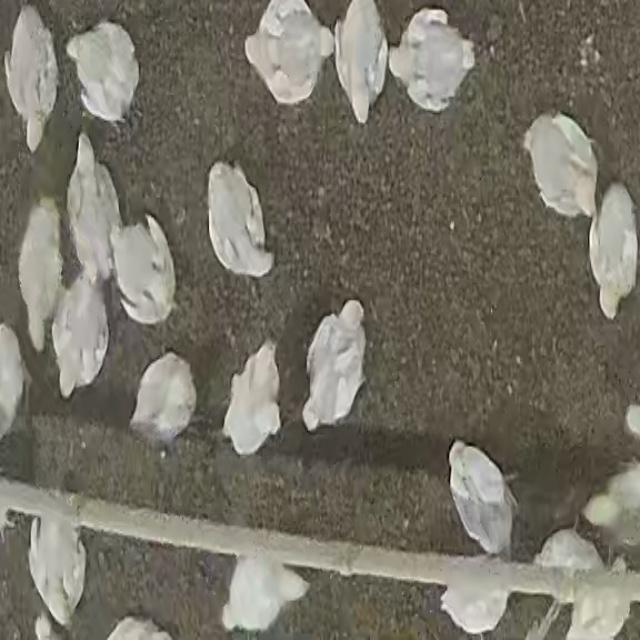chicken: (391, 6, 474, 112), (246, 0, 326, 107), (302, 299, 366, 432), (447, 439, 519, 557), (524, 114, 598, 221), (67, 136, 121, 282), (206, 160, 272, 279), (66, 19, 139, 125), (109, 216, 175, 328), (5, 8, 57, 147), (221, 552, 306, 634), (52, 273, 108, 396), (222, 342, 282, 456), (17, 204, 62, 352), (589, 183, 637, 320), (130, 352, 197, 450), (27, 514, 84, 629), (339, 0, 385, 120), (565, 558, 633, 639), (443, 581, 509, 633)
